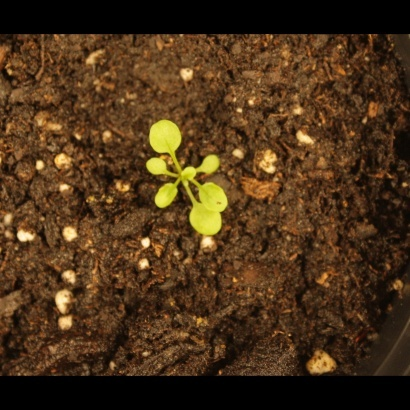leaf: (146, 117, 185, 158), (186, 203, 227, 239), (196, 182, 232, 215), (151, 181, 182, 212), (141, 154, 170, 181), (200, 152, 226, 180), (178, 162, 202, 188)
